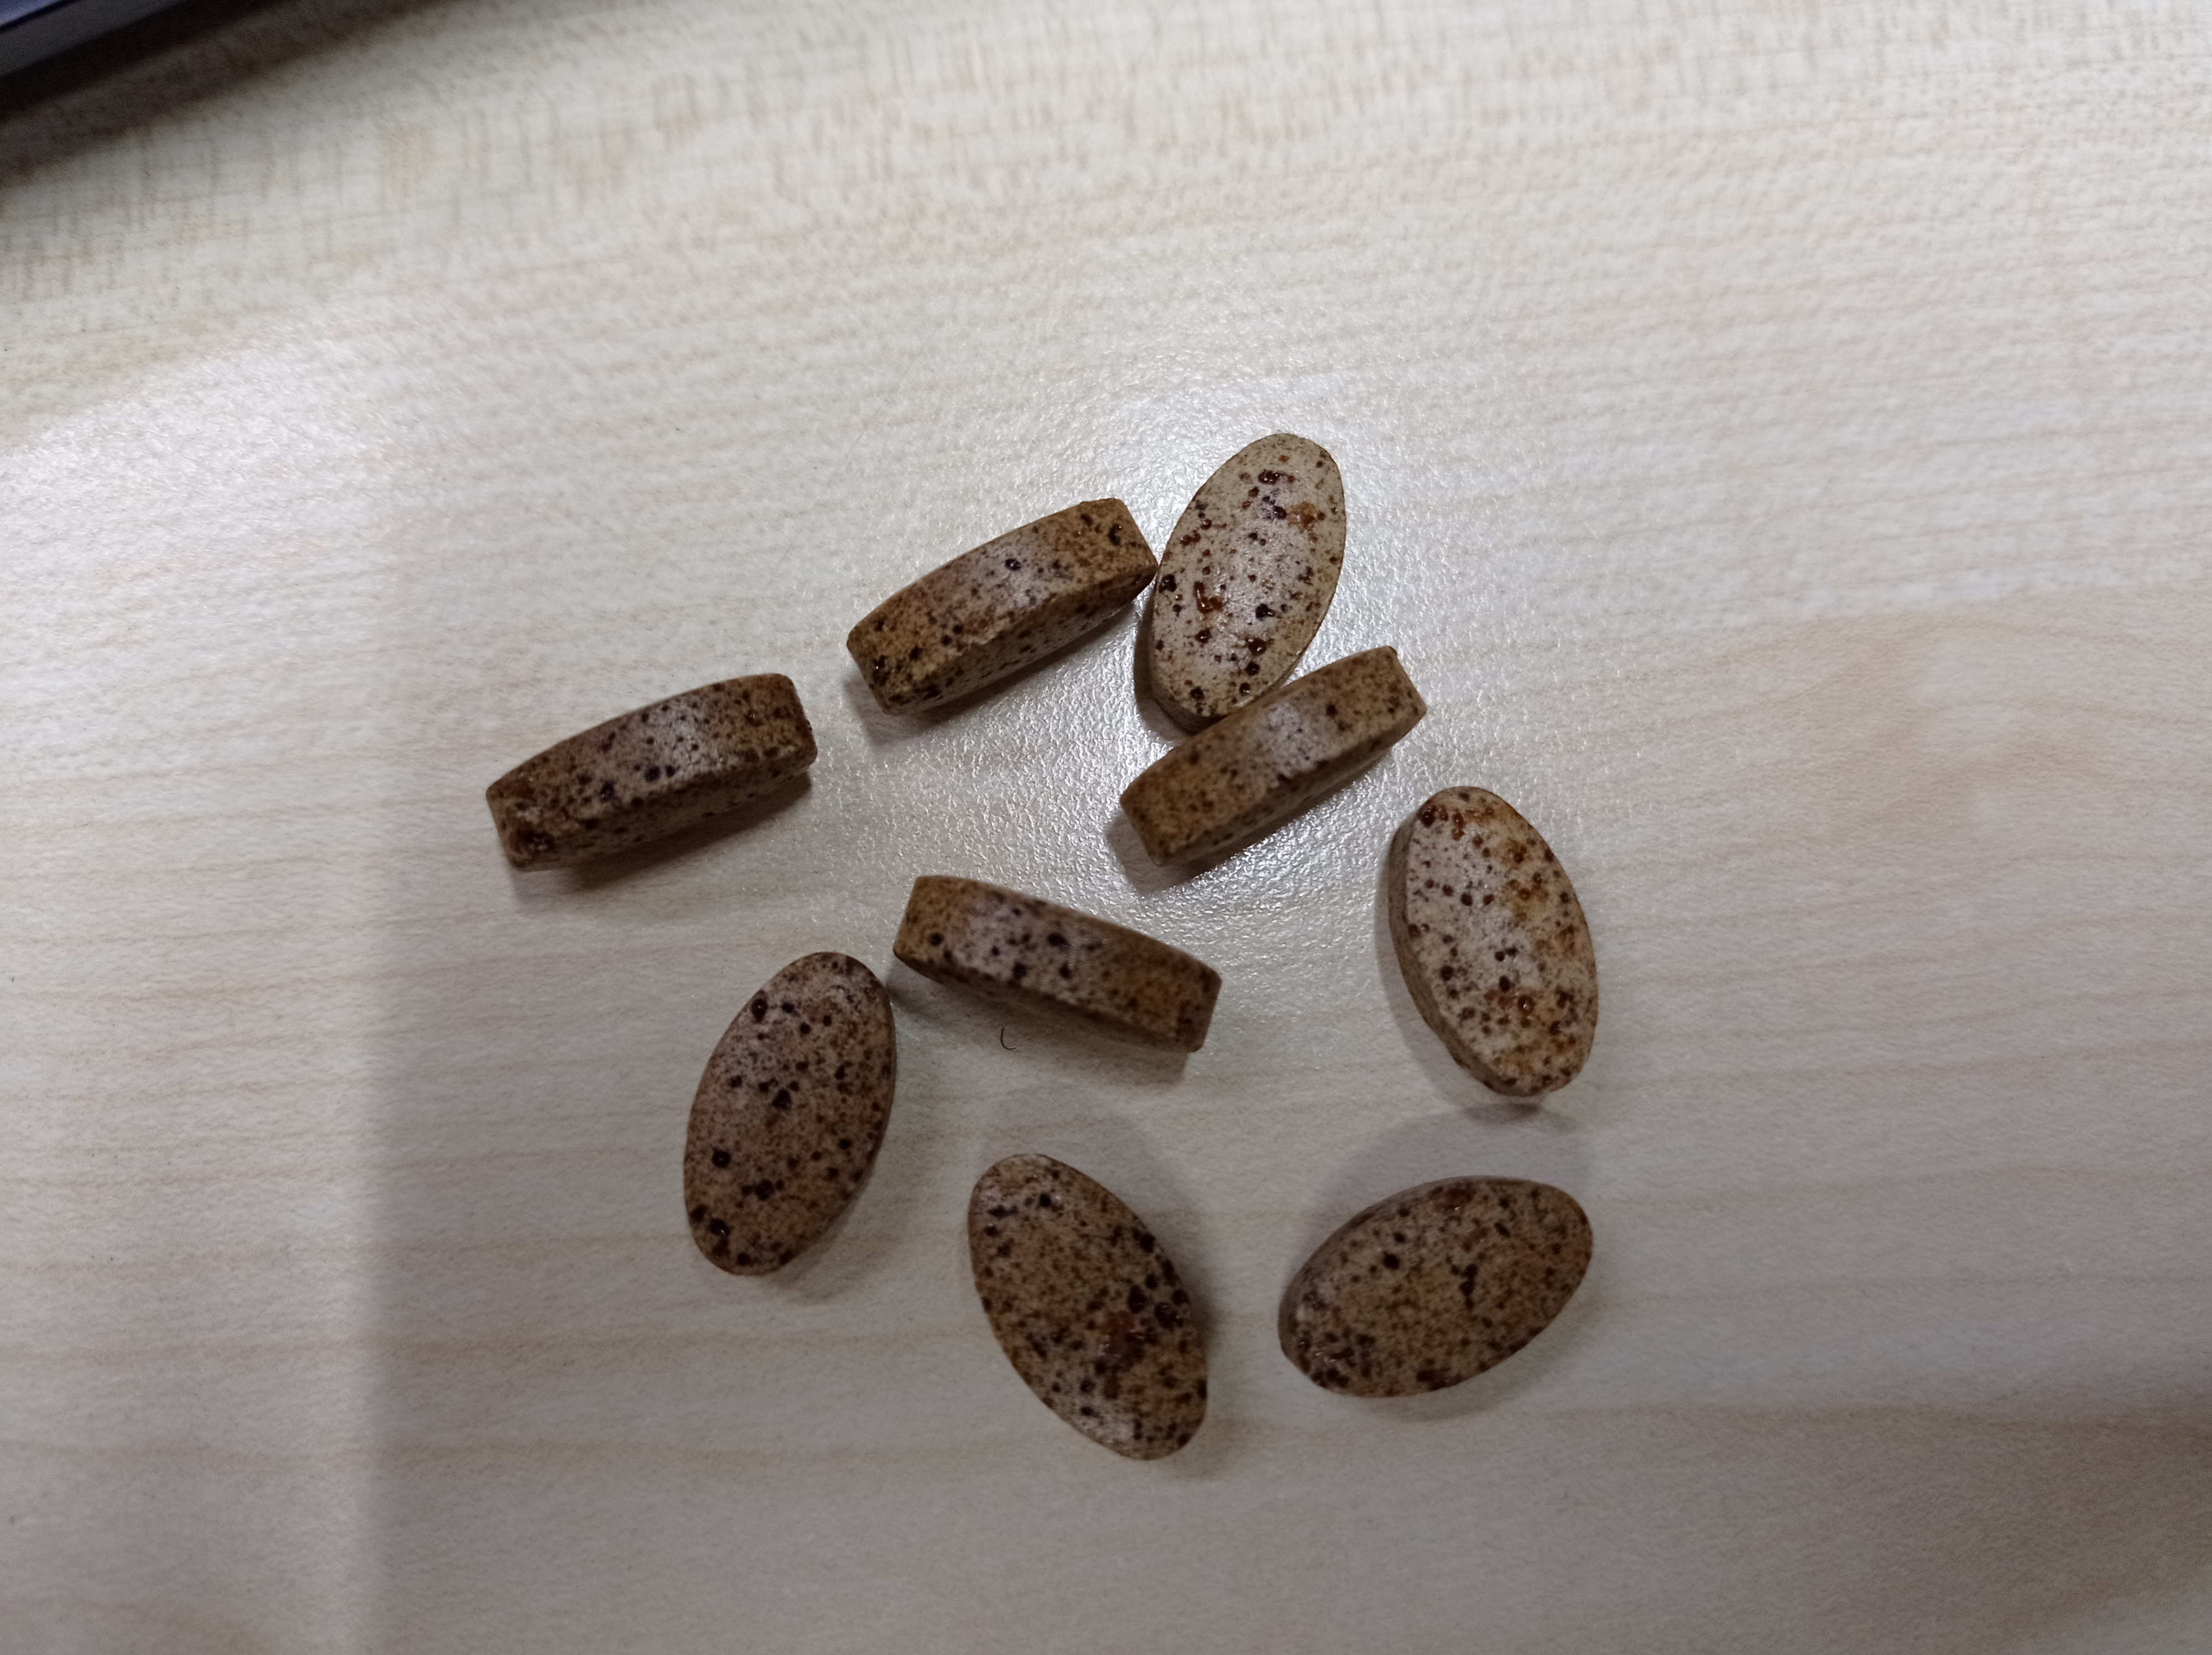brown_medicine: (966, 1149, 1215, 1462), (683, 954, 902, 1285), (1128, 645, 1434, 878), (1282, 1177, 1599, 1398), (848, 497, 1156, 720), (1390, 784, 1599, 1102), (487, 673, 815, 873), (1145, 431, 1350, 728), (893, 873, 1223, 1055)
